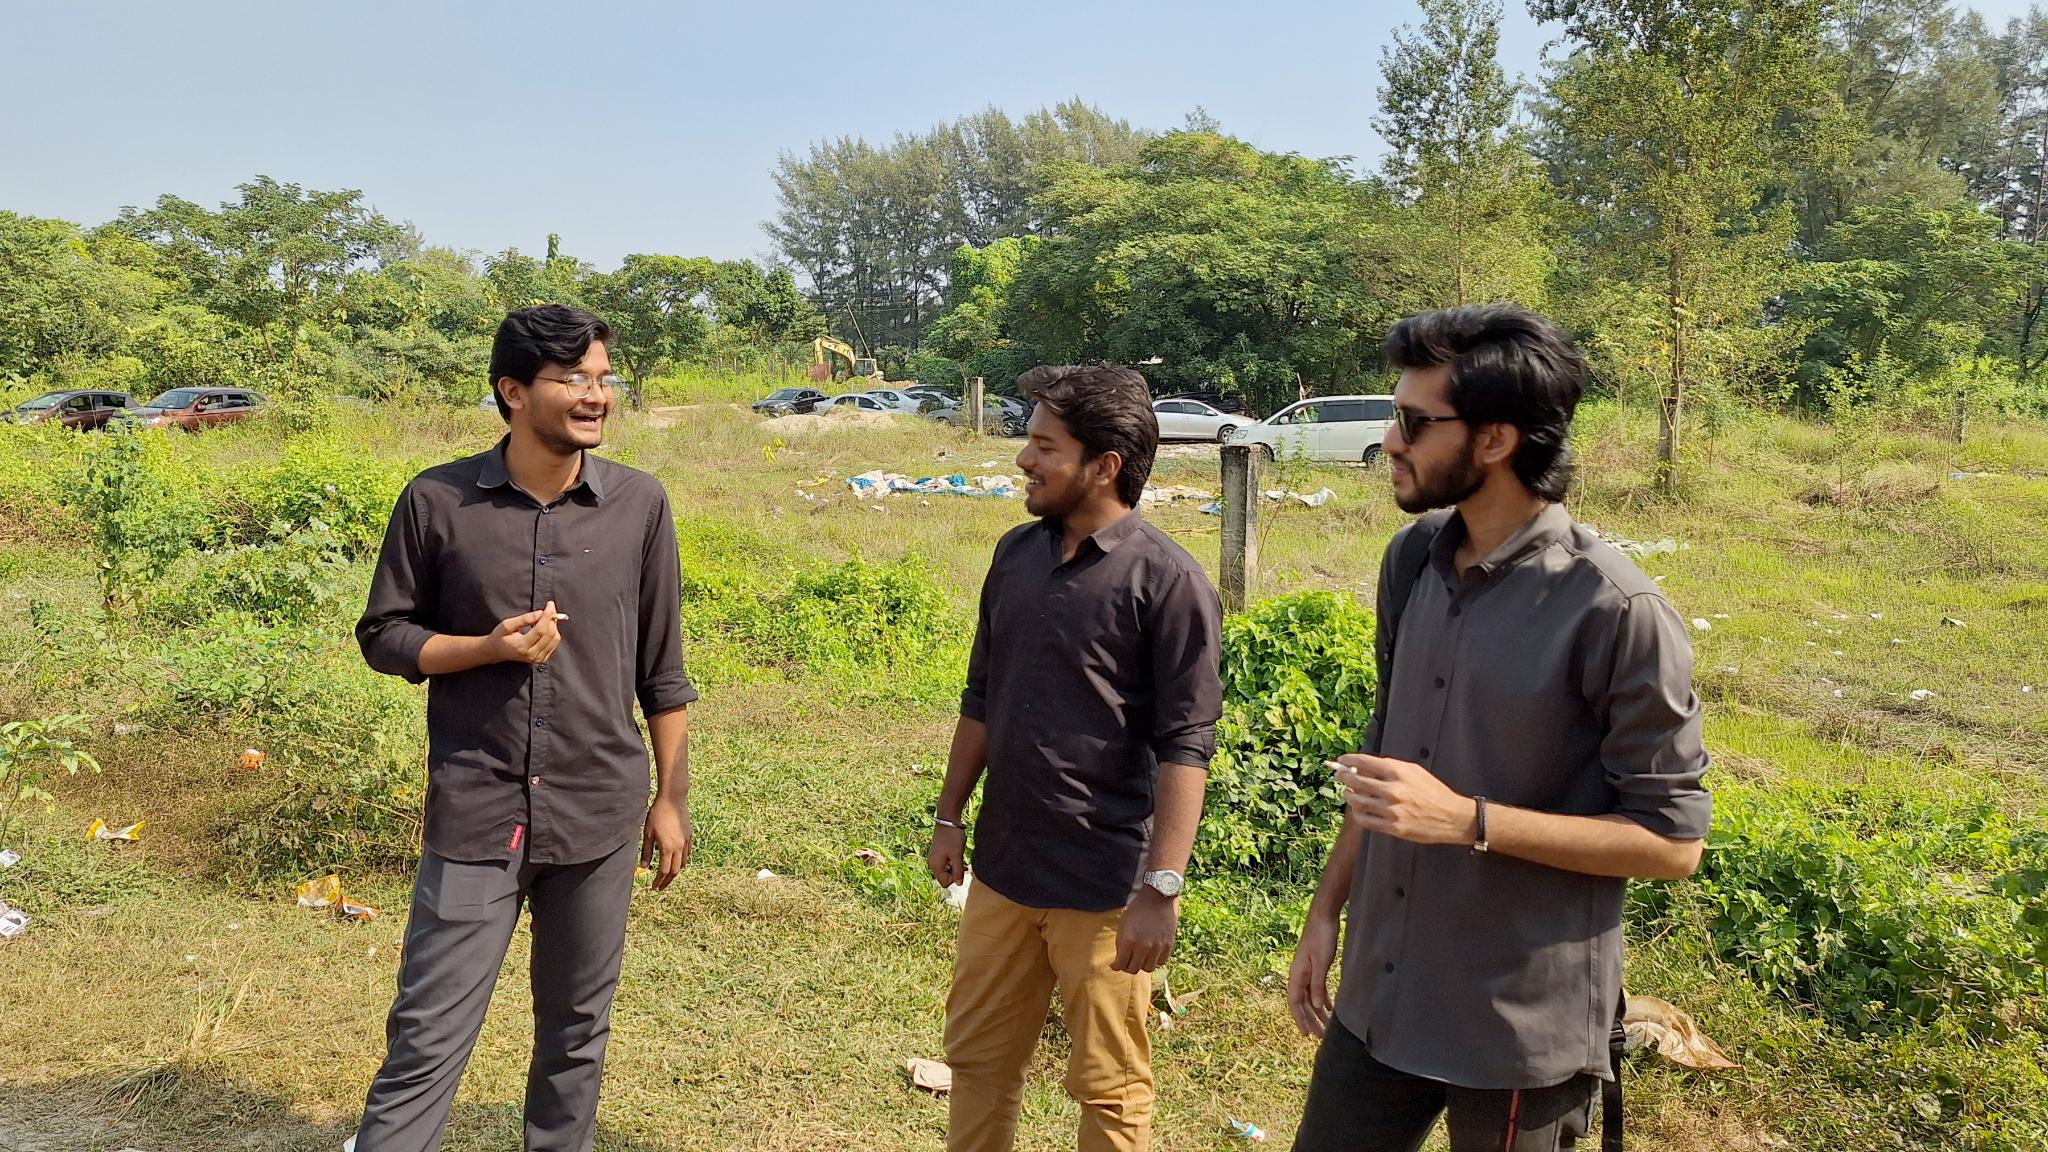cigarette: (1319, 758, 1360, 776), (549, 610, 571, 623)
nonSmoker: (926, 366, 1224, 1152)
smoker: (1287, 302, 1713, 1152), (353, 305, 696, 1152)
